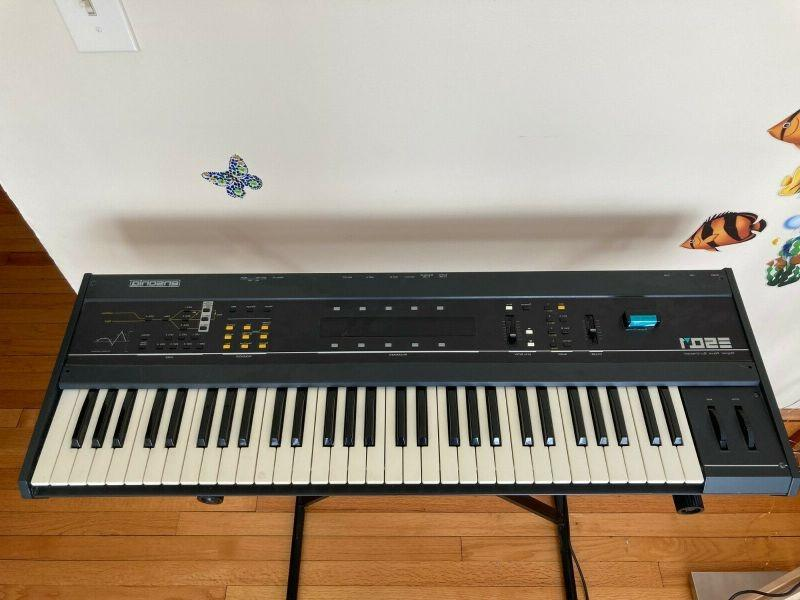synthesizer: (26, 269, 788, 499)
